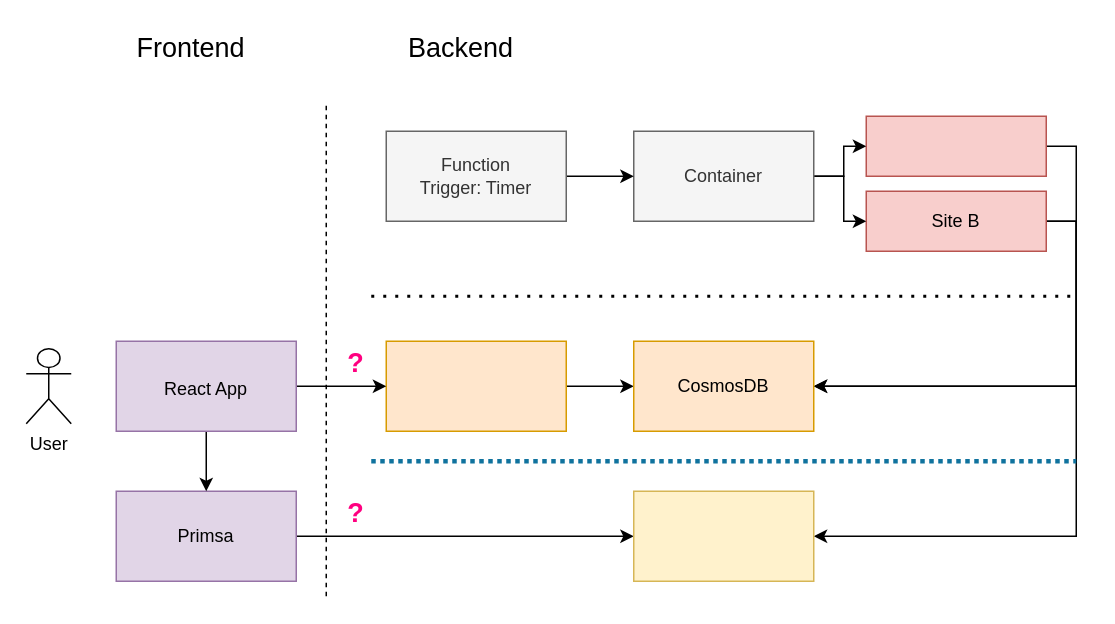
The diagram is 1115 pixels wide and 624 high, and some of its shapes have lost their labels. Each missing label, with the box of its shape:
Function FastAPI: (385, 340, 566, 431)
PostgreSQL: (632, 490, 814, 581)
Site A: (865, 115, 1046, 176)
